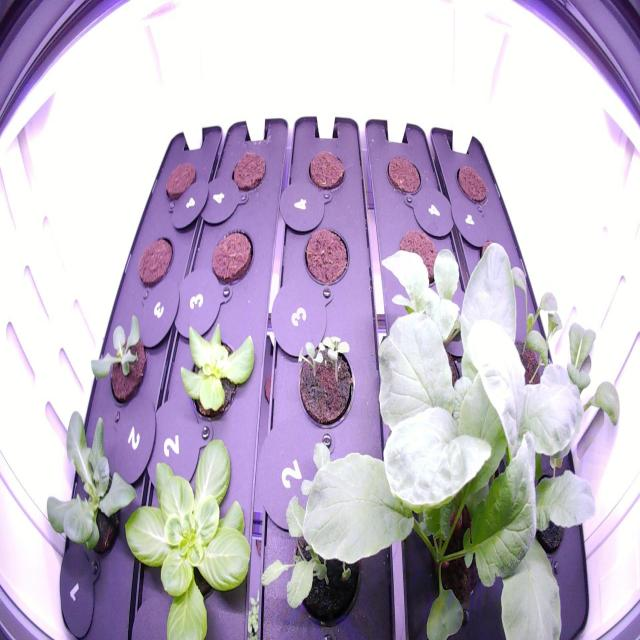germination: (288, 326, 361, 434)
pod: (296, 216, 354, 295), (391, 219, 444, 294), (205, 219, 257, 292), (380, 143, 427, 206), (134, 227, 177, 291), (224, 143, 273, 198), (449, 152, 492, 214), (158, 146, 201, 208), (302, 144, 350, 196)
young: (116, 424, 266, 639), (42, 401, 144, 590), (164, 310, 261, 430), (83, 306, 153, 419)
